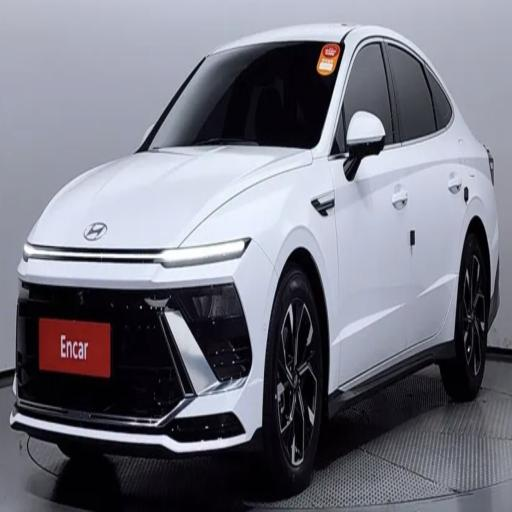normal: (19, 20, 504, 491)
